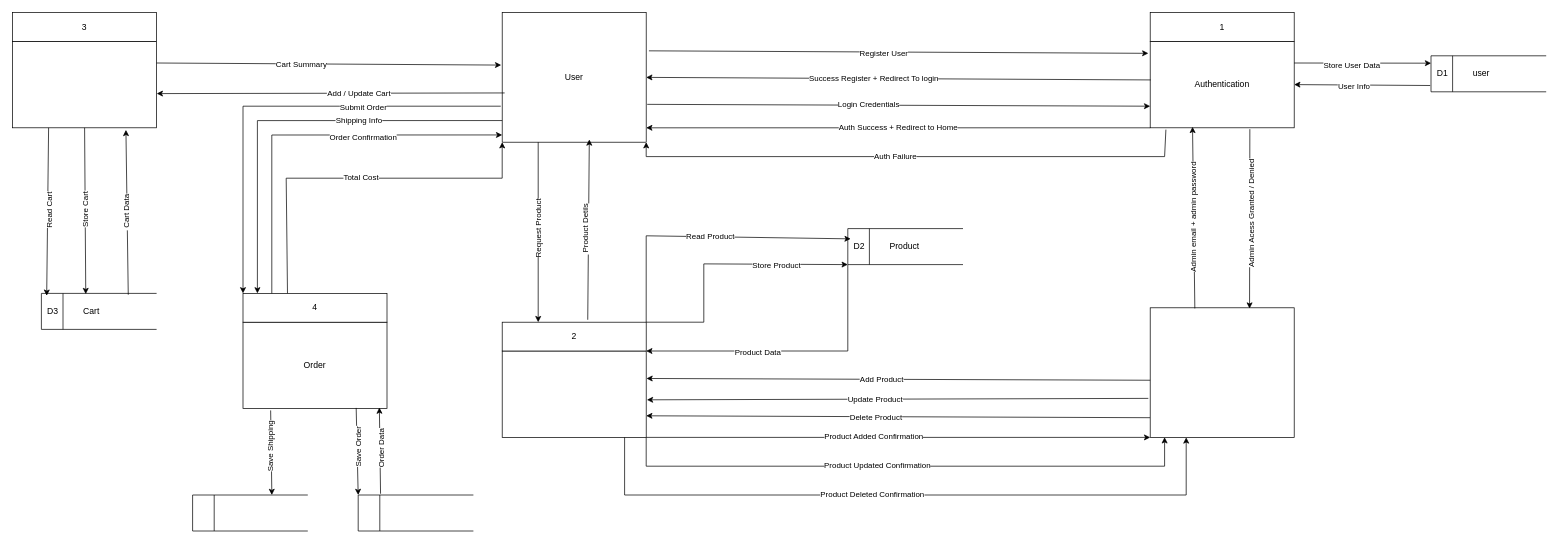
Some shapes in this 1559 by 544 pixel diagram are drawn without their labels. The centre of each missing label's shape, as x and y in pixels:
Admin: (x=1221, y=372)
Cart: (x=84, y=84)
D4 Order: (x=415, y=512)
D5 Shipping: (x=250, y=512)
Product: (x=573, y=393)
